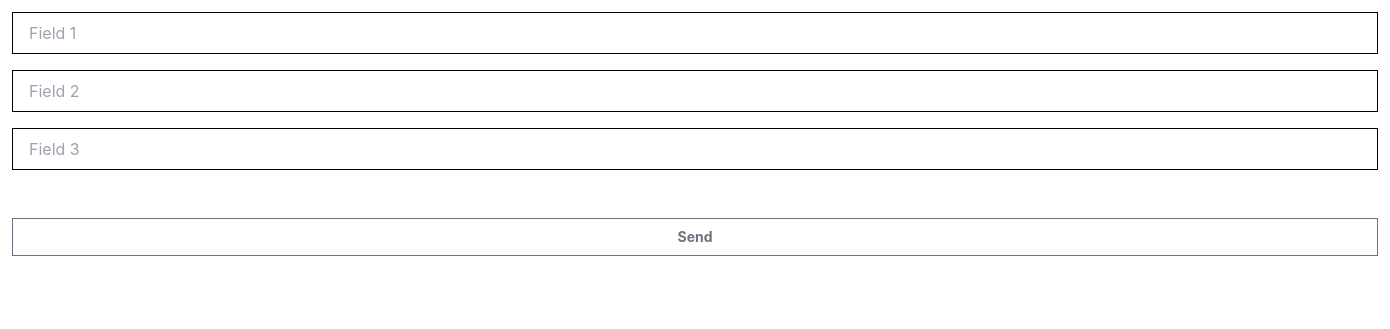
Test case: <Form /> › should display server error message
Click the button at (695, 237), box x1=12 y1=218 x2=1378 y2=256
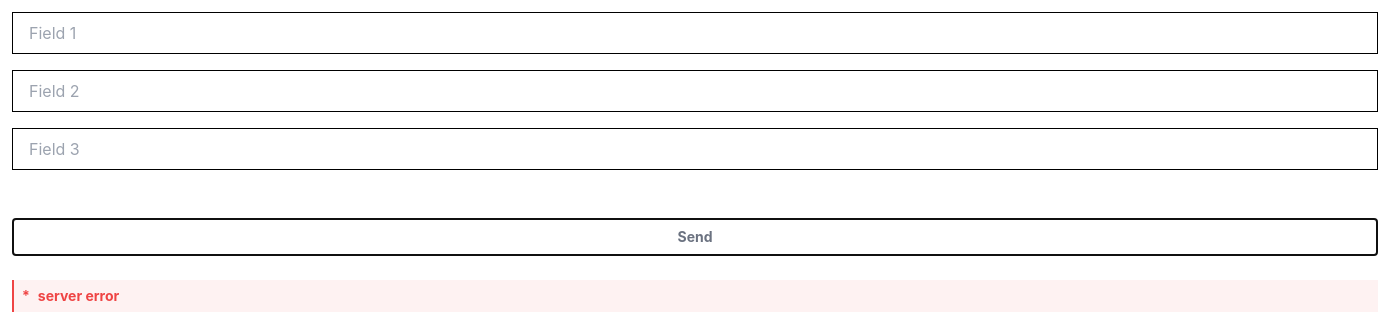
Check: the message shows "server error", box x1=38 y1=287 x2=119 y2=304
